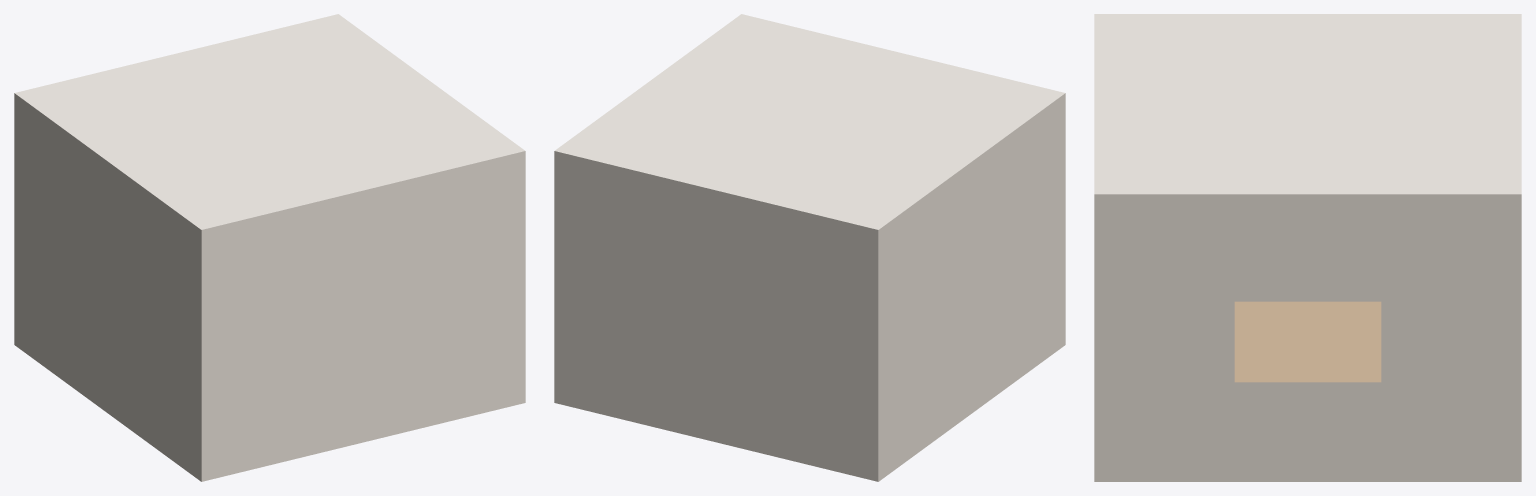
Rendered from RoomShell.fbx.
The picture shows the model from 3 angles, left to right: view 1: azimuth 30°, elevation 25°; view 2: azimuth 150°, elevation 25°; view 3: azimuth 270°, elevation 25°; orthographic projection. The views are drawn at different scales.
Visible parts, largest first — view 1: Room_Walls, Room_Ceiling; view 2: Room_Walls, Room_Ceiling; view 3: Room_Walls, Room_Ceiling, Room_Floor.
Boxes of the visible parts, <box> form: Room_Walls: <box>14,93,525,481</box>; Room_Ceiling: <box>15,14,524,229</box>; Room_Walls: <box>554,93,1065,481</box>; Room_Ceiling: <box>555,14,1064,229</box>; Room_Walls: <box>1094,194,1521,481</box>; Room_Ceiling: <box>1094,14,1521,194</box>; Room_Floor: <box>1234,301,1381,382</box>.
Bounding box in the file's own units: 3.5 × 2.6 × 3.5.
